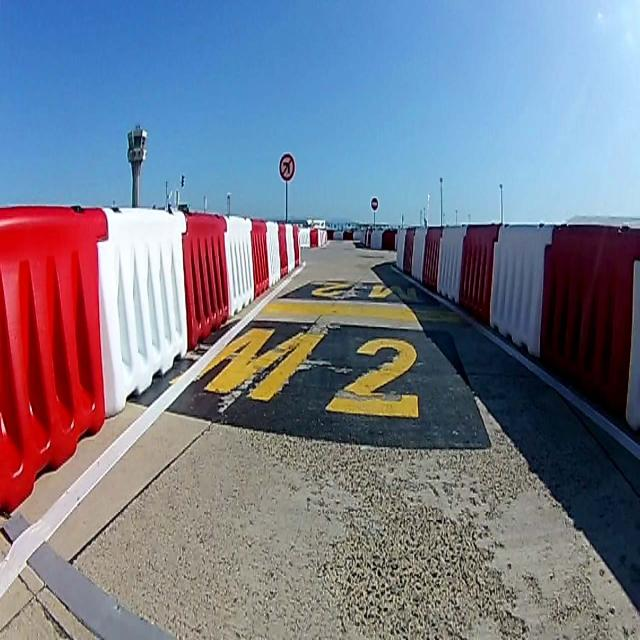soladonulmez: (278, 150, 296, 182)
